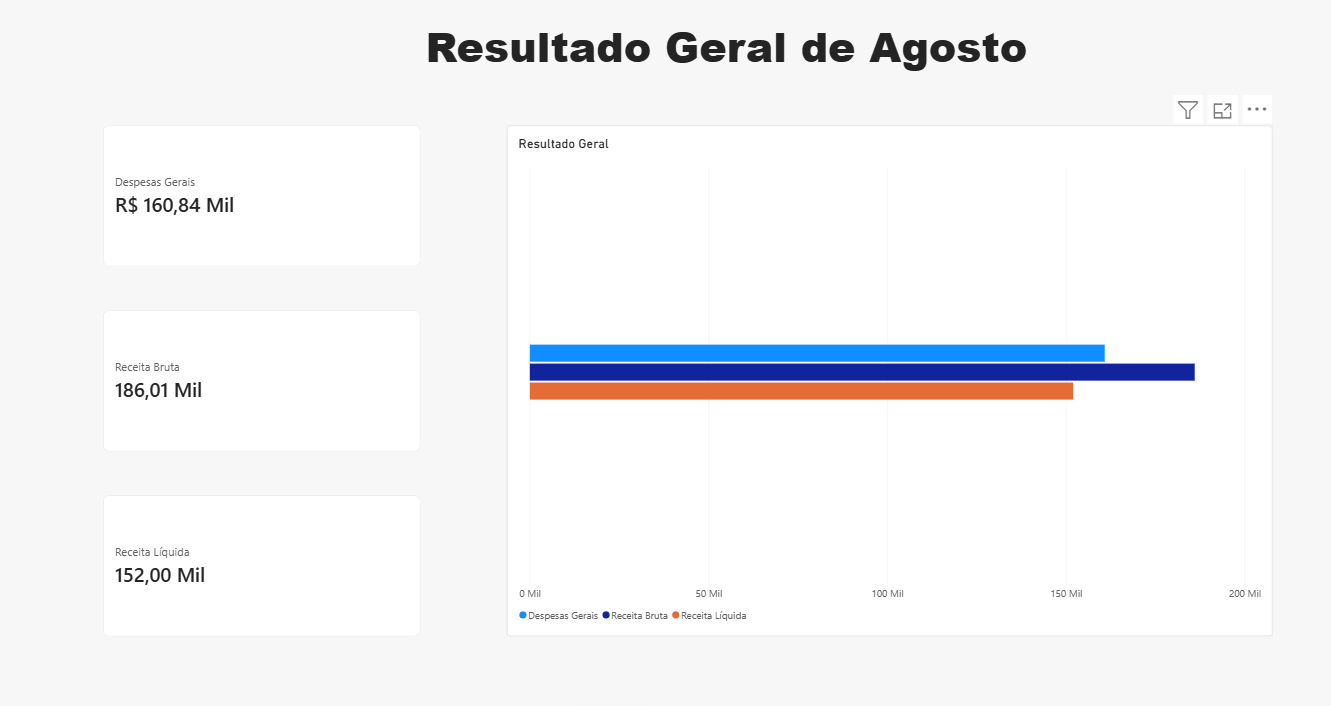

The dashboard page shown, as its layout file describes it:
{"tool":"powerbi","page":{"name":"Resultado","canvas":[1920,1080],"ordinal":3},"visuals":[{"type":"clusteredBarChart","title":"Resultado Geral","fields":{"Y":["Relatório de extrato.Gastos_totais","Relatório de extrato.Receita_totais","Relatório de extrato.Receita liquida"]},"box":[724.5,193.5,1090.9,728.6],"z":0},{"type":"textbox","box":[559.9,39.1,953,100.9],"z":1000},{"type":"cardVisual","fields":{"Data":["Relatório de extrato.Gastos_totais"]},"box":[150.3,193.5,452.8,201.7],"z":2000},{"type":"cardVisual","fields":{"Data":["Relatório de extrato.Receita_totais"]},"box":[150.3,456.9,452.8,201.7],"z":3000},{"type":"cardVisual","fields":{"Data":["Relatório de extrato.Receita liquida"]},"box":[150.3,720.4,452.8,201.7],"z":4000}]}

Visuals, with their boxes on the page's 1920x1080 design canvas (x1, y1, x2, y2). These are canvas units, not pixel positions in the 1331x706 screenshot, which may show the page scaled, cropped or inside an application window:
"Resultado Geral" clusteredBarChart: (724, 194, 1815, 922)
textbox: (560, 39, 1513, 140)
cardVisual - Relatório de extrato.Gastos_totais: (150, 194, 603, 395)
cardVisual - Relatório de extrato.Receita_totais: (150, 457, 603, 659)
cardVisual - Relatório de extrato.Receita liquida: (150, 720, 603, 922)
